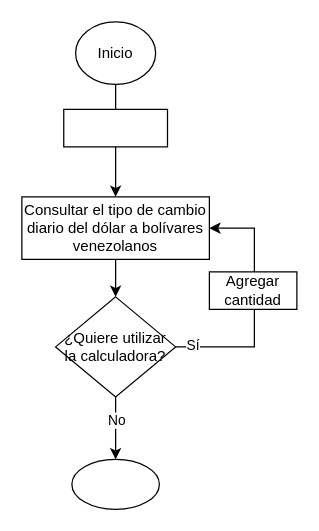
This 319x531 diagram has some shape labels left out. Here are the shapes that lost their labels. From the top down, the centre of each, then its label:
At [115,127]: "Abrir aplicación web".
At [115,483]: "Fin".
